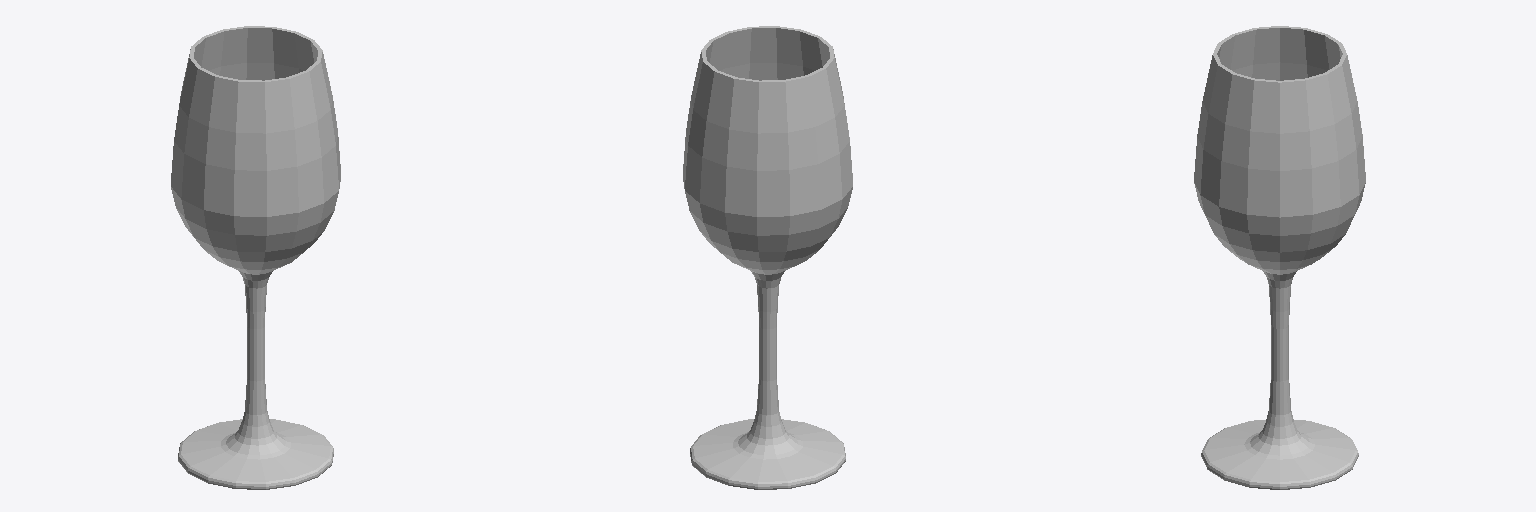
File: glass2.obj
3 views of the same model, side by side, from view 1: azimuth 30°, elevation 25°; view 2: azimuth 150°, elevation 25°; view 3: azimuth 270°, elevation 25° (orthographic).
Parts seen in each view (by area): view 1: Cup; view 2: Cup; view 3: Cup.
Boxes of the visible parts, <box> form: Cup: <box>171,26,340,489</box>; Cup: <box>683,26,852,489</box>; Cup: <box>1194,26,1365,489</box>.
Bounding box in the file's own units: 3.39 × 8.76 × 3.39.